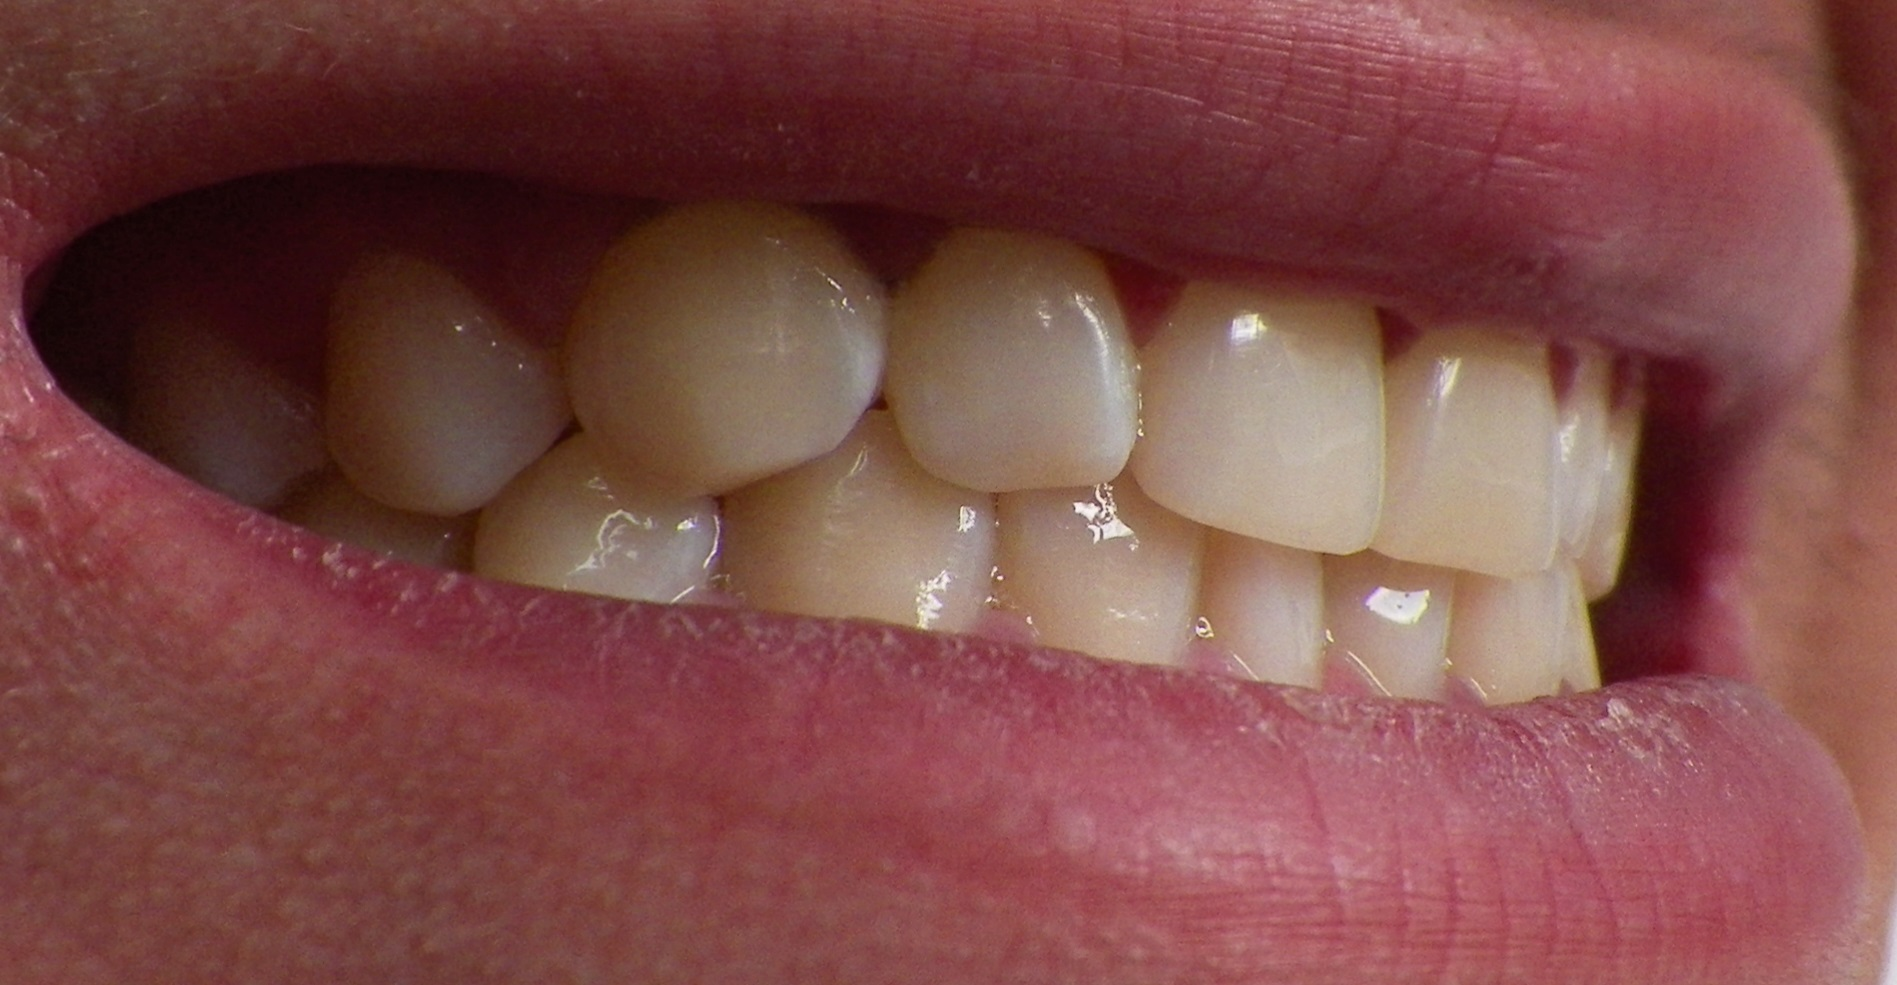boca: (114, 212, 1660, 705)
